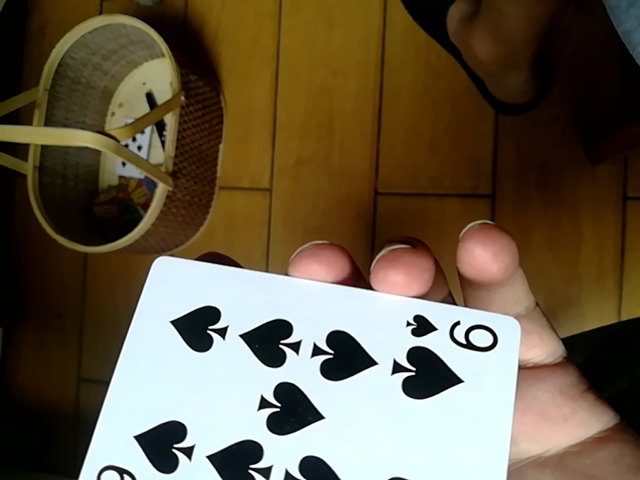ht 9: (73, 250, 529, 478)
